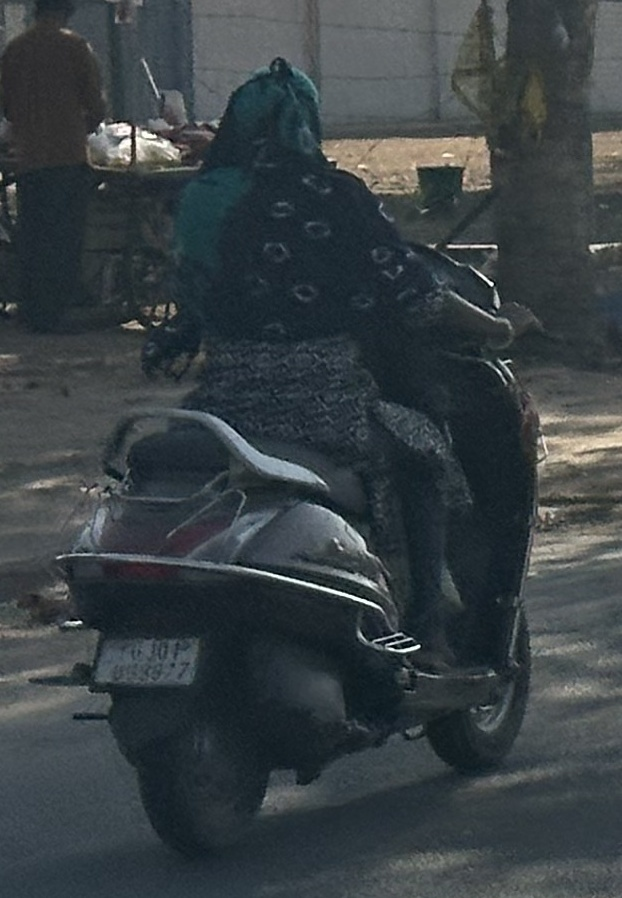BikeWithRider: (30, 47, 562, 871)
NoHelmet: (200, 49, 341, 179)
